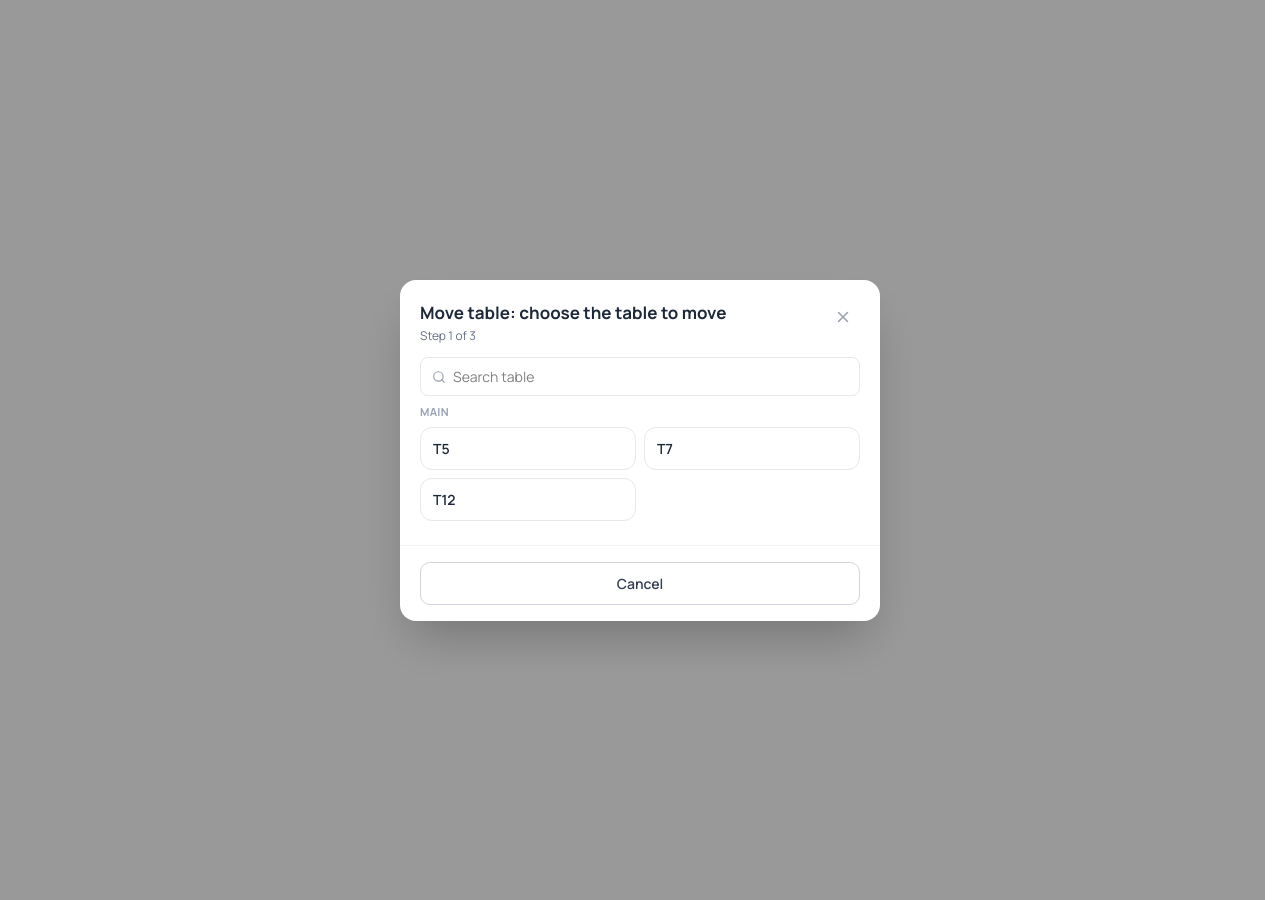
MoveTableModal › step 2 enables only free tables, others disabled with reasons
Click the button "T5" at (528, 448), box [420,426,636,470]
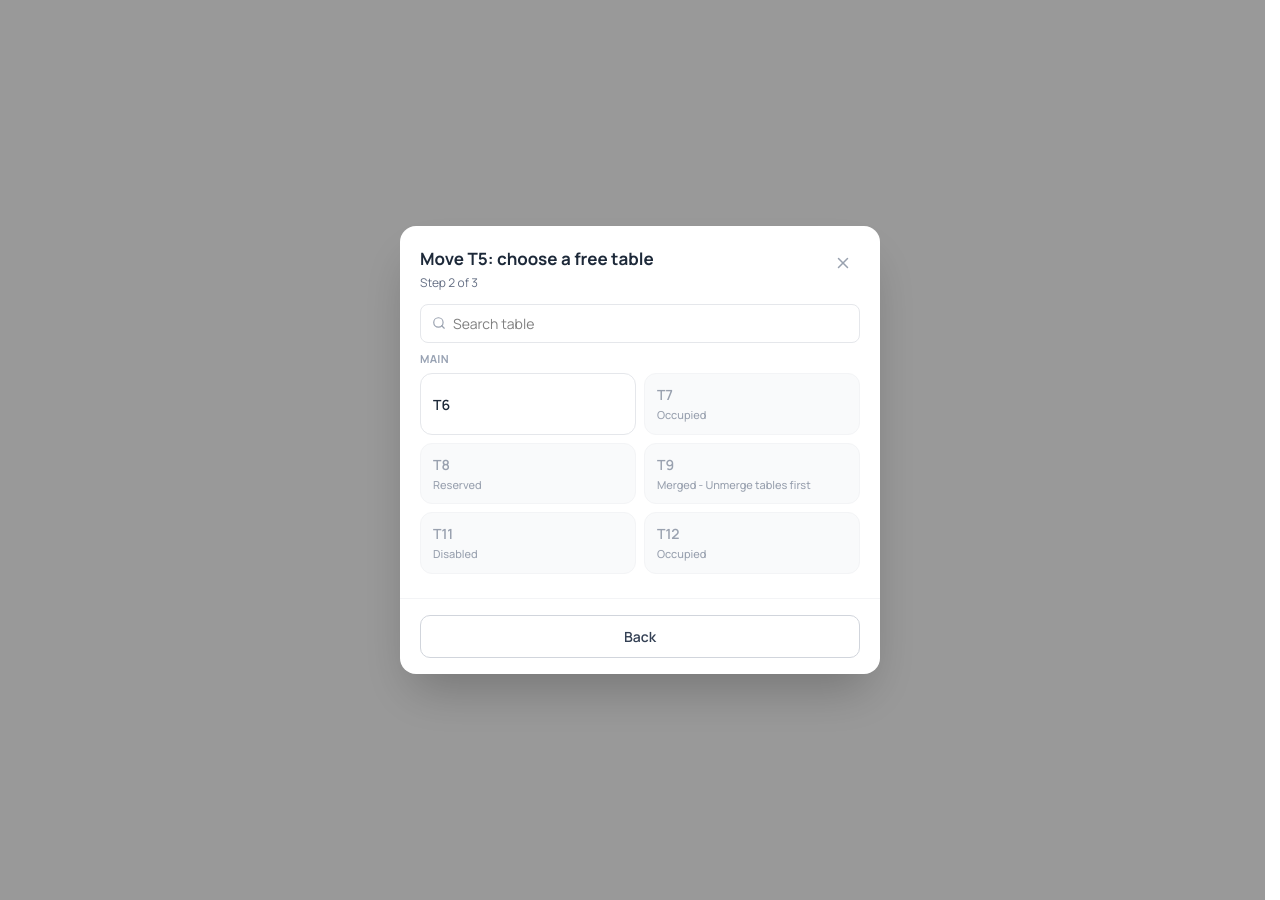
Now the button "T6" is enabled, box [420,373,636,435]
Now the button with aria-label "T7, Occupied" is disabled, box [644,373,860,435]
Now the button with aria-label "T8, Reserved" is disabled, box [420,443,636,504]
